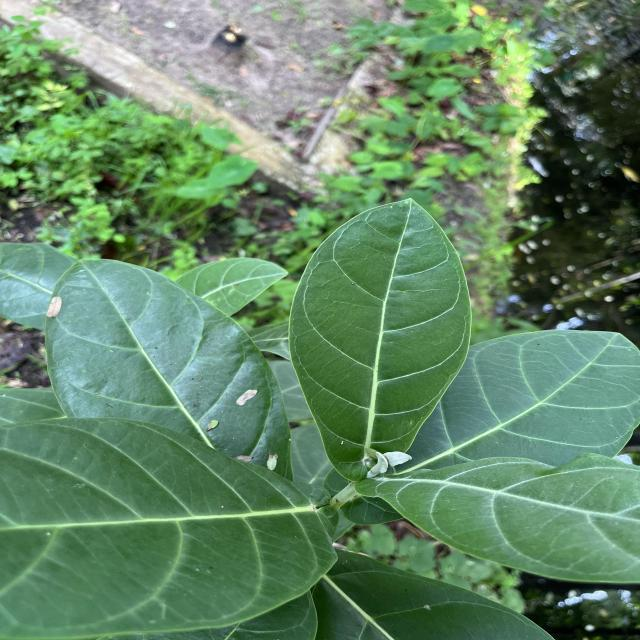Calotropis gigantea: (45, 258, 296, 480), (285, 196, 475, 484), (354, 452, 640, 586), (411, 327, 640, 463)
